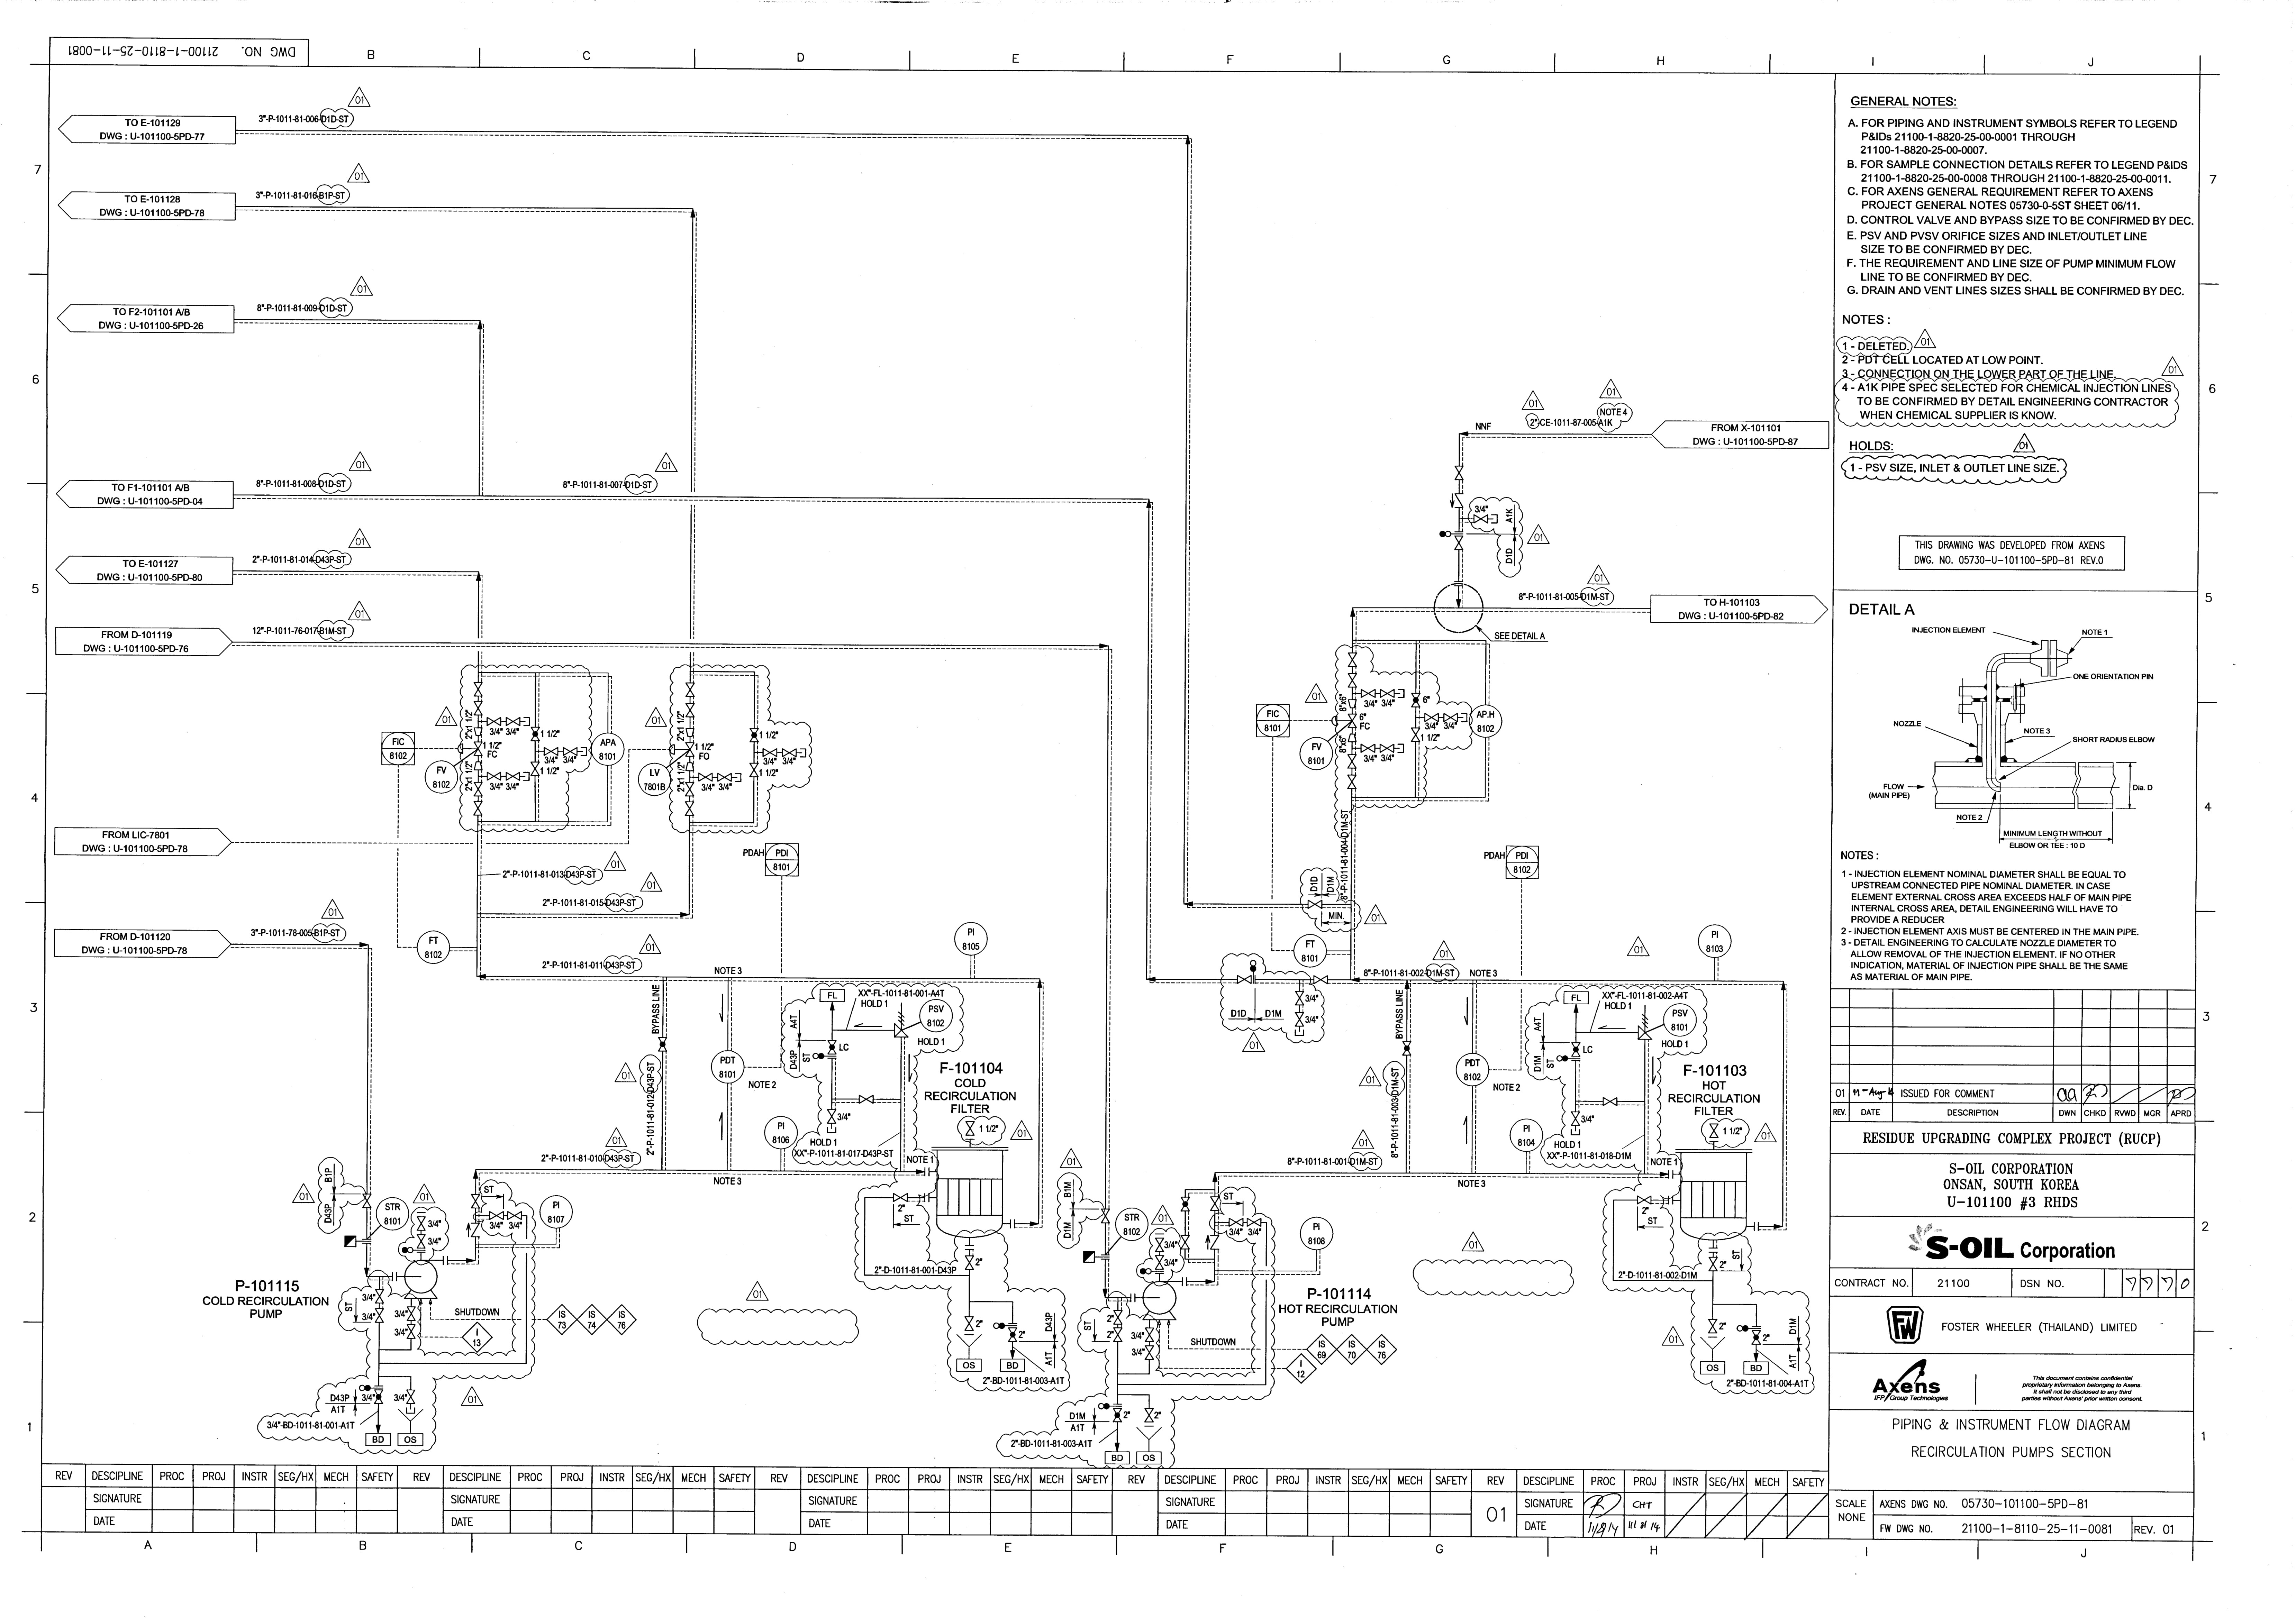NAS: (399, 1259, 445, 1301), (461, 1320, 494, 1354), (606, 1303, 637, 1336), (578, 1305, 608, 1336), (545, 1305, 578, 1333), (1140, 1313, 1158, 1345), (461, 1387, 487, 1406), (1082, 1250, 1114, 1266), (403, 1292, 417, 1322), (1984, 776, 2007, 793), (2054, 648, 2072, 669), (891, 1023, 909, 1040), (1205, 1235, 1221, 1252), (1450, 492, 1466, 510), (1637, 1026, 1653, 1044), (1956, 693, 1976, 707), (928, 1000, 944, 1016), (1084, 1459, 1102, 1473), (1117, 1462, 1137, 1474), (1476, 709, 1496, 721), (468, 1222, 482, 1238), (1567, 998, 1581, 1014), (1142, 1432, 1159, 1445), (343, 1235, 357, 1249), (1970, 693, 1984, 707), (790, 1338, 806, 1350), (2025, 651, 2037, 667), (1128, 1474, 1145, 1485), (429, 1375, 443, 1387), (415, 1249, 427, 1263), (440, 1254, 452, 1268), (716, 1306, 730, 1319), (918, 1192, 932, 1205), (1224, 949, 1240, 960), (1009, 1217, 1019, 1231), (1438, 529, 1452, 539), (389, 1271, 401, 1282), (466, 1350, 478, 1361), (860, 1000, 877, 1007), (1736, 1324, 1750, 1333), (2011, 693, 2019, 707), (1249, 960, 1257, 974), (1296, 972, 1305, 986), (1597, 1024, 1611, 1033), (1396, 688, 1406, 699), (1261, 965, 1271, 975), (371, 1410, 384, 1418), (522, 770, 531, 783), (1114, 1441, 1123, 1453), (1117, 1466, 1137, 1471), (401, 1247, 415, 1254), (1096, 1403, 1110, 1410), (406, 1417, 417, 1425), (734, 772, 743, 783), (522, 716, 531, 727), (580, 746, 588, 756), (405, 1408, 417, 1415), (405, 1436, 417, 1443), (993, 1322, 1005, 1329), (1461, 713, 1468, 723)
butterdly90: (748, 727, 760, 744)
butterfly90: (657, 1035, 669, 1054), (1410, 692, 1422, 709), (1401, 1040, 1413, 1058), (1571, 1040, 1583, 1058), (531, 725, 541, 742), (827, 1038, 837, 1056), (1180, 1196, 1191, 1213), (1751, 1329, 1762, 1347), (373, 1389, 384, 1404), (1007, 1327, 1018, 1343), (1112, 1408, 1123, 1424)
reduce270: (1347, 699, 1357, 709), (473, 727, 483, 737), (685, 727, 695, 737)
reduce90: (473, 760, 485, 772), (1347, 732, 1357, 744), (685, 762, 695, 772)
valvecontrol180: (455, 741, 483, 758), (1331, 713, 1357, 730), (669, 742, 695, 758)
valvegate0: (485, 714, 503, 727), (858, 1093, 876, 1105), (1473, 513, 1490, 525), (1636, 1194, 1653, 1206), (1306, 898, 1324, 911), (1312, 974, 1329, 986), (560, 746, 580, 756), (504, 1210, 524, 1221), (1245, 1217, 1264, 1228), (1422, 713, 1441, 723), (1441, 713, 1461, 723), (489, 1210, 504, 1222), (504, 716, 522, 727), (543, 746, 560, 756), (485, 770, 503, 781), (504, 770, 522, 781), (697, 772, 715, 783), (716, 772, 734, 783), (762, 748, 779, 758), (781, 748, 799, 758), (891, 1192, 909, 1203), (1228, 1217, 1245, 1228), (1359, 688, 1377, 699), (1378, 688, 1396, 699), (1359, 742, 1377, 753), (1378, 742, 1396, 753), (1235, 974, 1252, 984), (1601, 1096, 1618, 1107)
valvegate90: (1112, 1326, 1124, 1345), (469, 1192, 482, 1210), (748, 762, 760, 779), (963, 1254, 975, 1271), (963, 1315, 975, 1333), (1144, 1326, 1156, 1343), (1100, 1206, 1110, 1226), (361, 1192, 373, 1208), (1144, 1345, 1156, 1361), (1410, 727, 1422, 742), (375, 1306, 385, 1324), (473, 681, 483, 699), (473, 700, 483, 718), (531, 760, 541, 777), (473, 781, 483, 798), (406, 1389, 417, 1406), (417, 1215, 427, 1233), (685, 800, 695, 818), (685, 681, 695, 699), (685, 702, 695, 720), (827, 1108, 837, 1126), (965, 1121, 975, 1138), (1154, 1236, 1165, 1254), (1154, 1254, 1165, 1271), (1180, 1233, 1191, 1250), (1144, 1406, 1154, 1424), (1454, 464, 1464, 482), (1454, 534, 1464, 552), (1347, 651, 1357, 669), (1347, 672, 1357, 690), (1347, 753, 1357, 770), (1708, 1319, 1718, 1336), (1708, 1256, 1718, 1273), (1294, 989, 1305, 1007), (1294, 1010, 1305, 1028), (1571, 1110, 1581, 1128), (1709, 1122, 1720, 1140), (375, 1289, 385, 1305), (406, 1306, 417, 1322), (406, 1324, 417, 1340), (473, 800, 483, 816), (685, 781, 695, 797), (1112, 1310, 1123, 1326), (1210, 1196, 1221, 1212), (1347, 774, 1357, 790), (417, 1233, 426, 1250)
